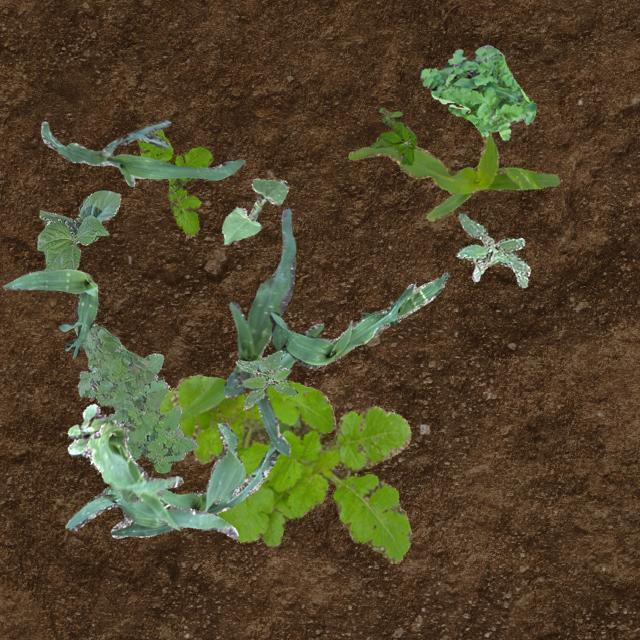crop: (64, 422, 280, 538), (222, 208, 322, 456), (348, 132, 558, 220), (85, 418, 236, 538), (268, 272, 448, 368), (40, 118, 244, 186), (2, 266, 98, 356), (36, 190, 120, 270), (220, 178, 288, 244)
weed: (157, 373, 410, 562), (74, 322, 198, 472), (418, 44, 536, 140), (134, 128, 212, 238), (454, 212, 530, 286), (234, 350, 296, 408), (66, 402, 116, 468), (371, 106, 416, 164)
